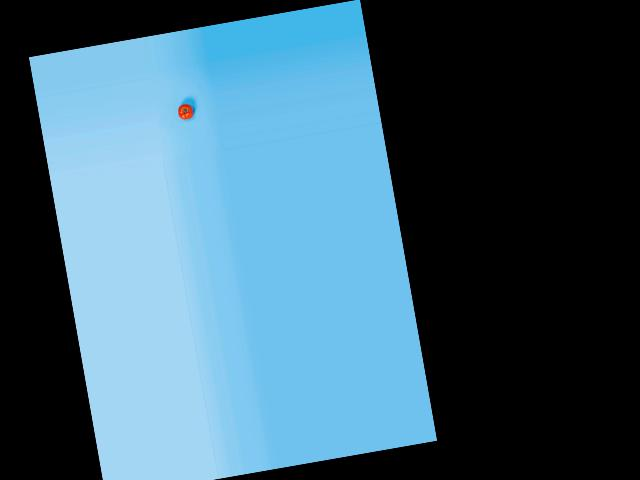tomato: (176, 102, 194, 120)
